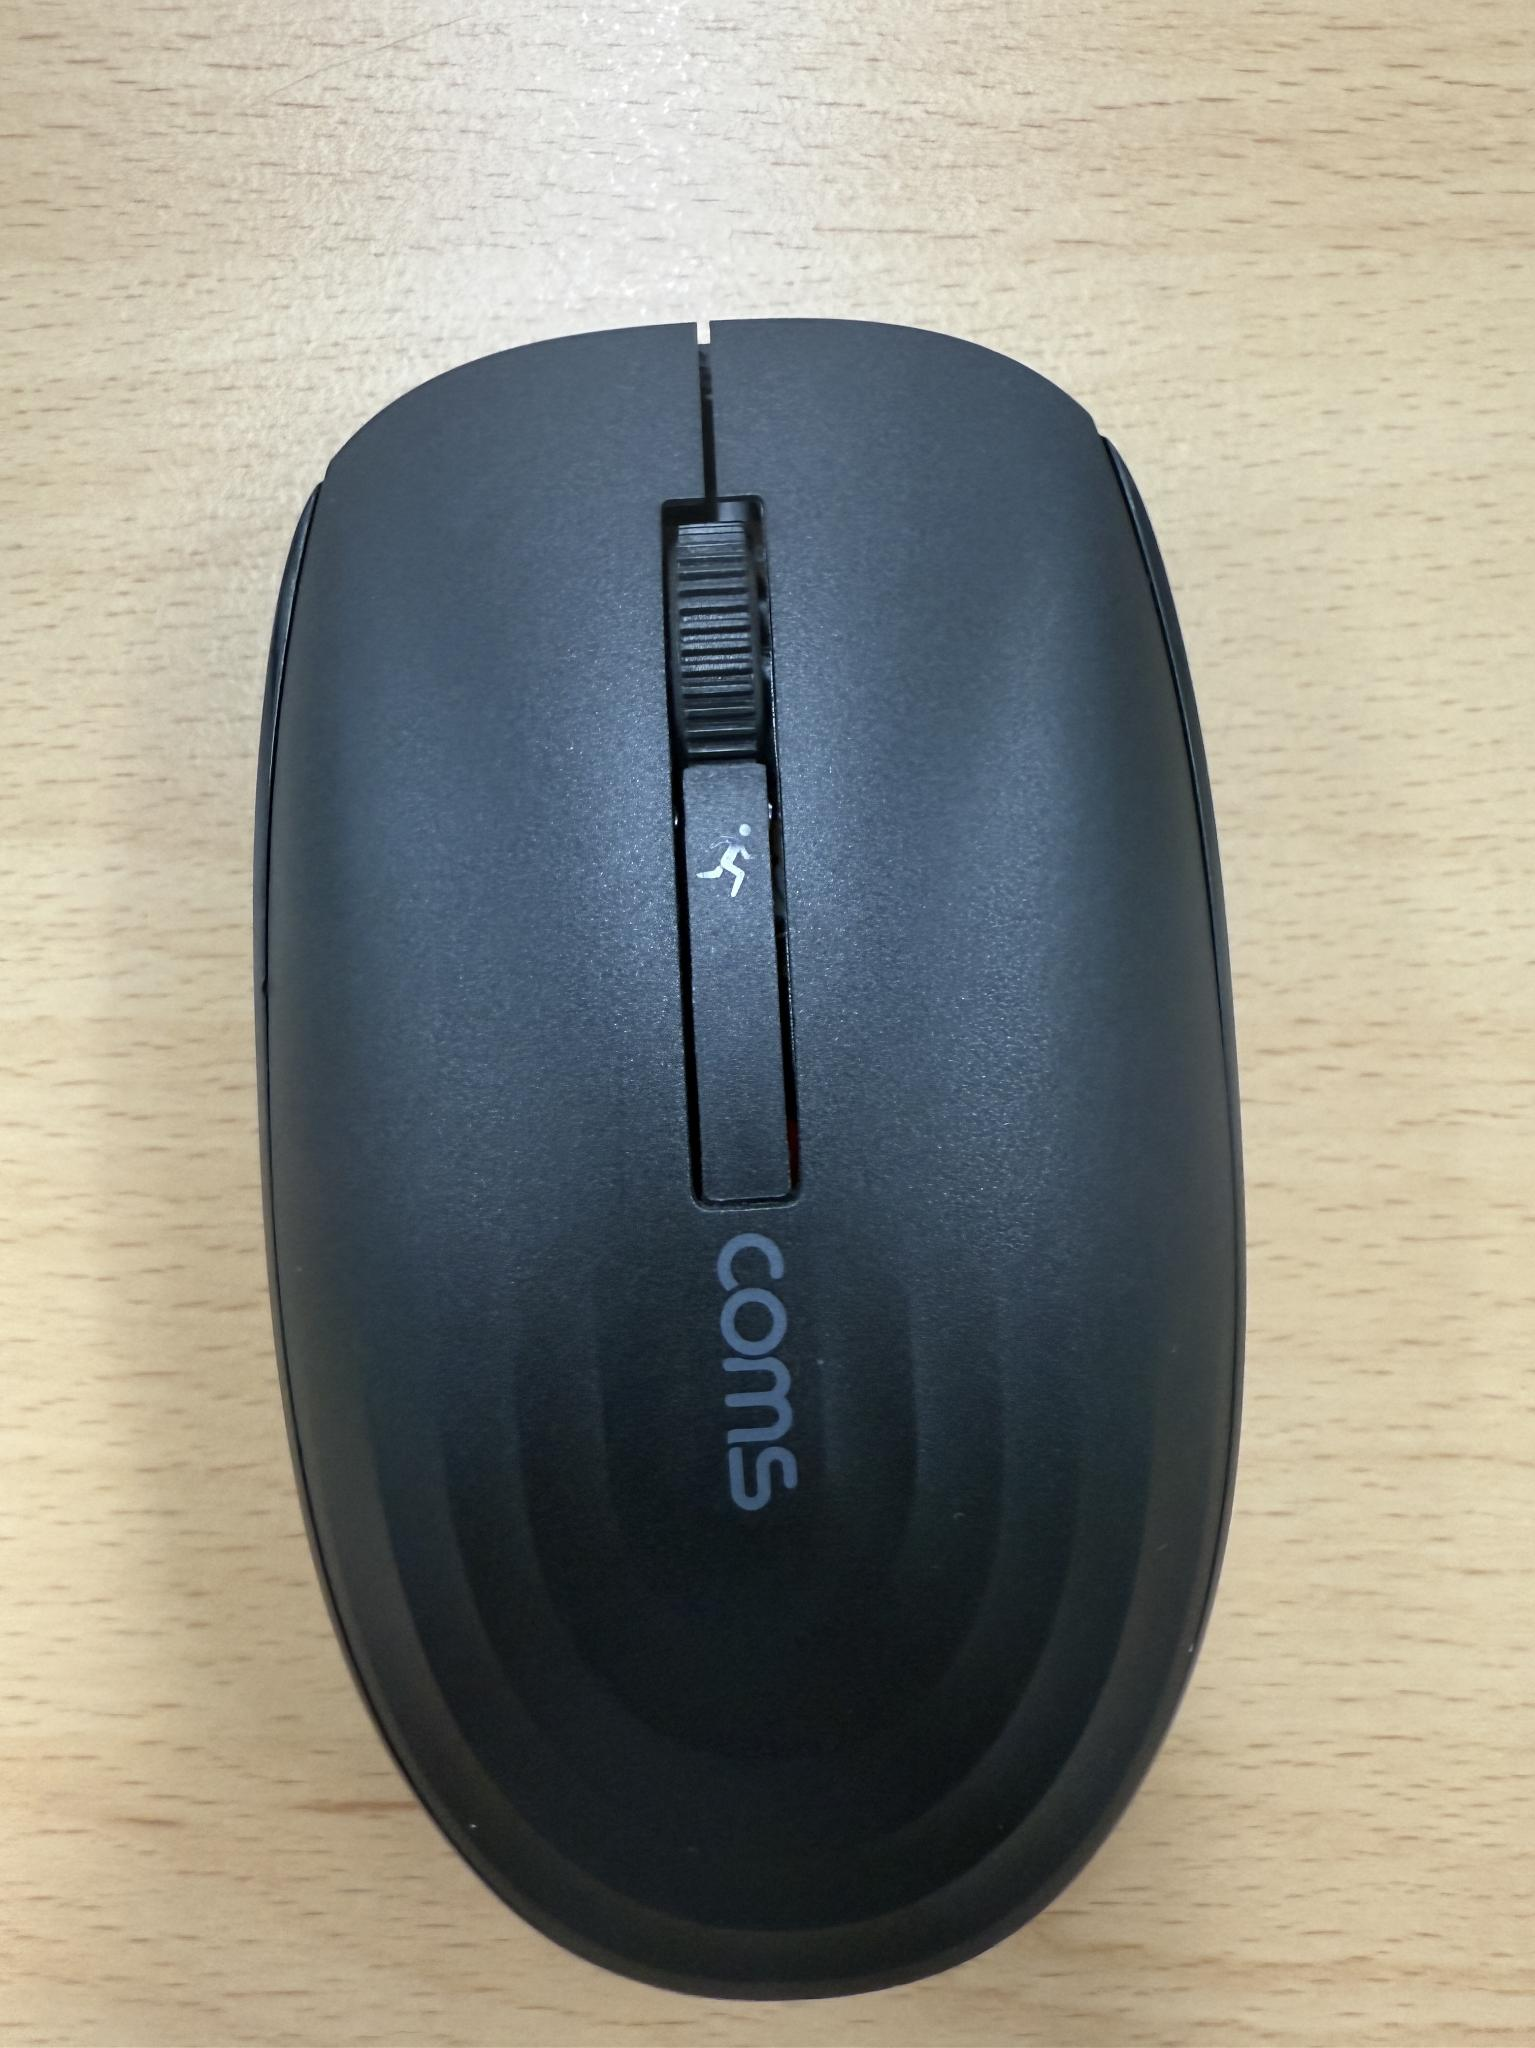front: (252, 308, 1250, 2001)
